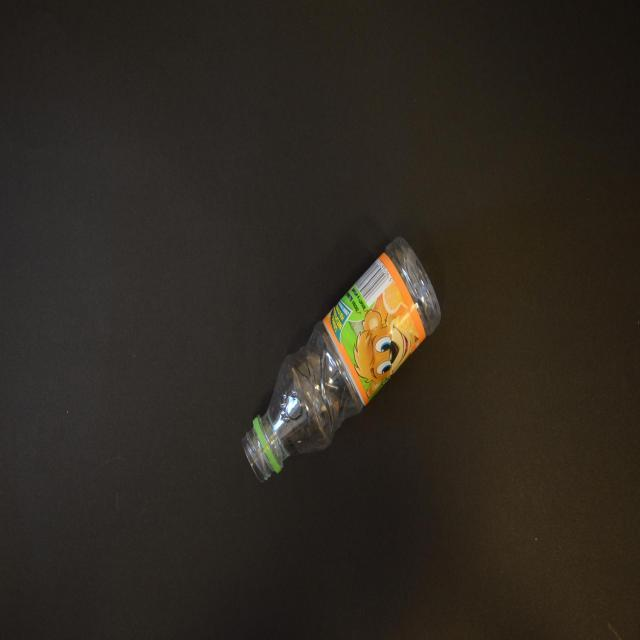plastic_bottle: (241, 236, 442, 484)
